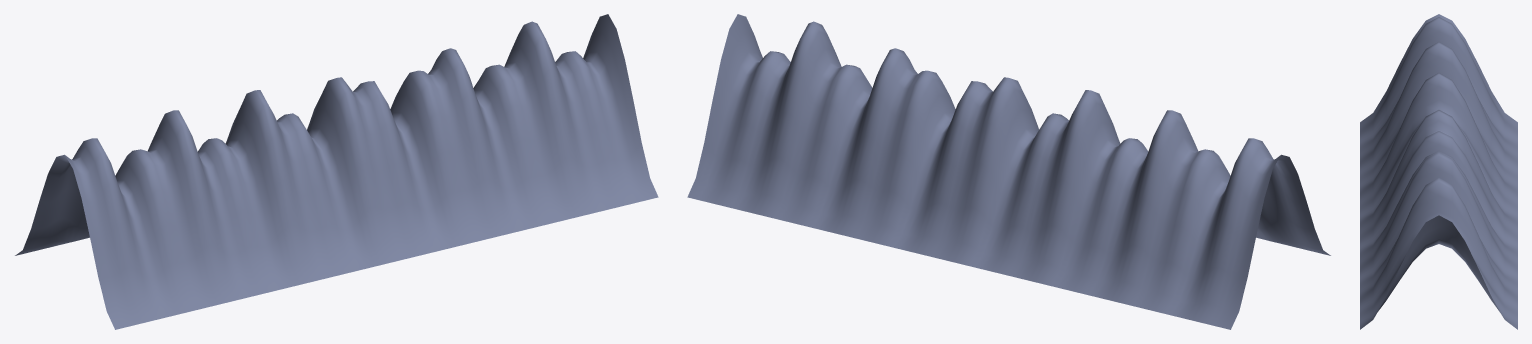
The model's file is Ridge2.fbx.
3 renders of one model, left to right at view 1: azimuth 30°, elevation 25°; view 2: azimuth 150°, elevation 25°; view 3: azimuth 270°, elevation 25°, orthographic. The views are drawn at different scales.
Parts seen in each view (by area): view 1: AlpineRidge; view 2: AlpineRidge; view 3: AlpineRidge.
Part boxes in pixels (bbox=[...]): AlpineRidge: bbox=[15, 14, 658, 329]; AlpineRidge: bbox=[687, 14, 1330, 329]; AlpineRidge: bbox=[1360, 14, 1517, 329].
Size of the model in its own units: 1400 by 388 by 450.
